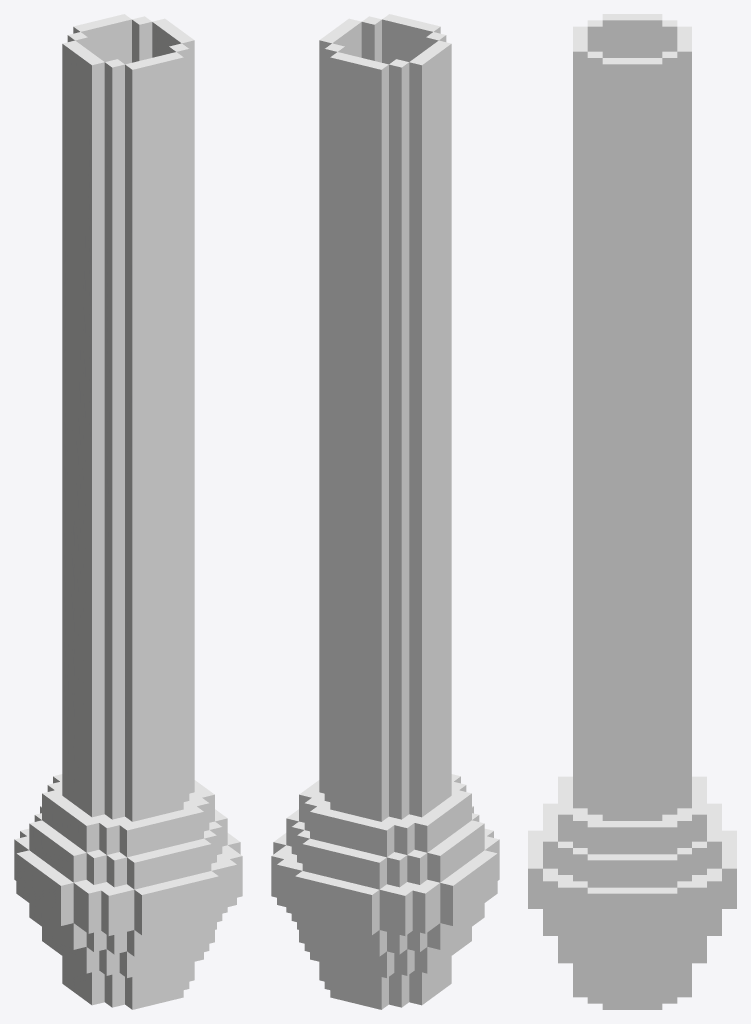
Rendered from Lampe_huile-0.obj.
3 views of the same model, side by side, from view 1: azimuth 30°, elevation 25°; view 2: azimuth 150°, elevation 25°; view 3: azimuth 270°, elevation 25° (orthographic).
Size of the model in its own units: 1.4 by 7 by 1.4.
1 material, 1 textured.
